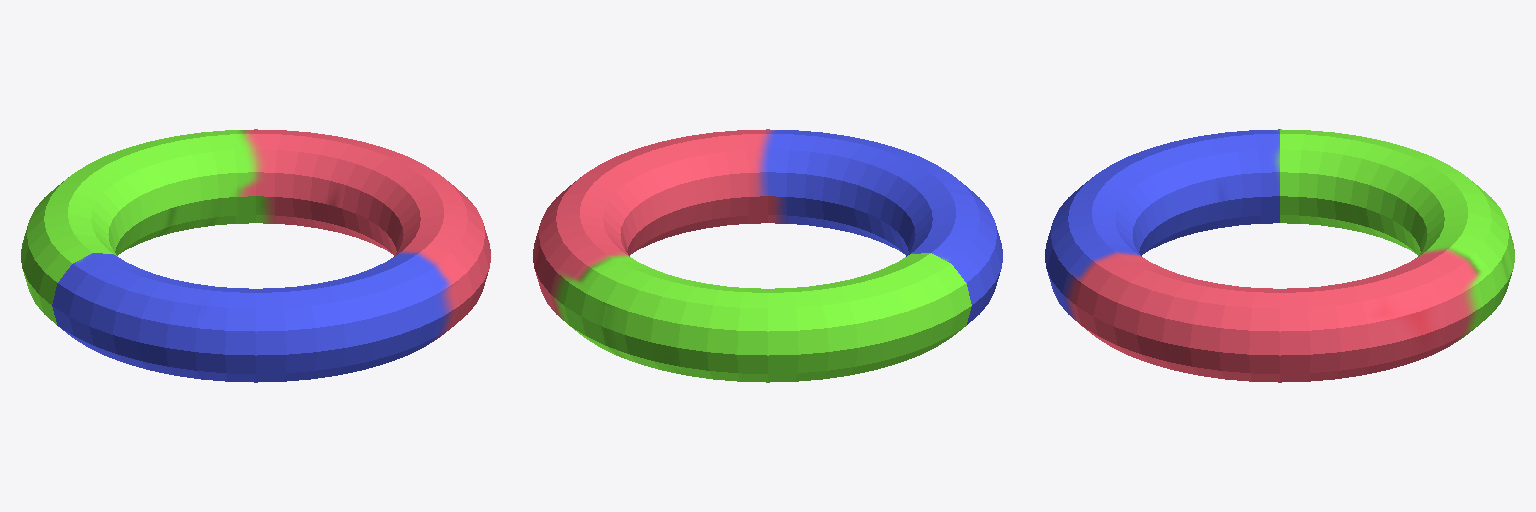
3 renders of one model, left to right at view 1: azimuth 30°, elevation 25°; view 2: azimuth 150°, elevation 25°; view 3: azimuth 270°, elevation 25°, orthographic.
Parts seen in each view (by area): view 1: トーラス; view 2: トーラス; view 3: トーラス.
Part boxes in pixels (x1,y1,x2,y2): トーラス: (21,129,490,382); トーラス: (533,129,1002,382); トーラス: (1045,129,1514,382).
Size of the model in its own units: 2.5 by 0.5 by 2.5.
1 materials, 1 textured.